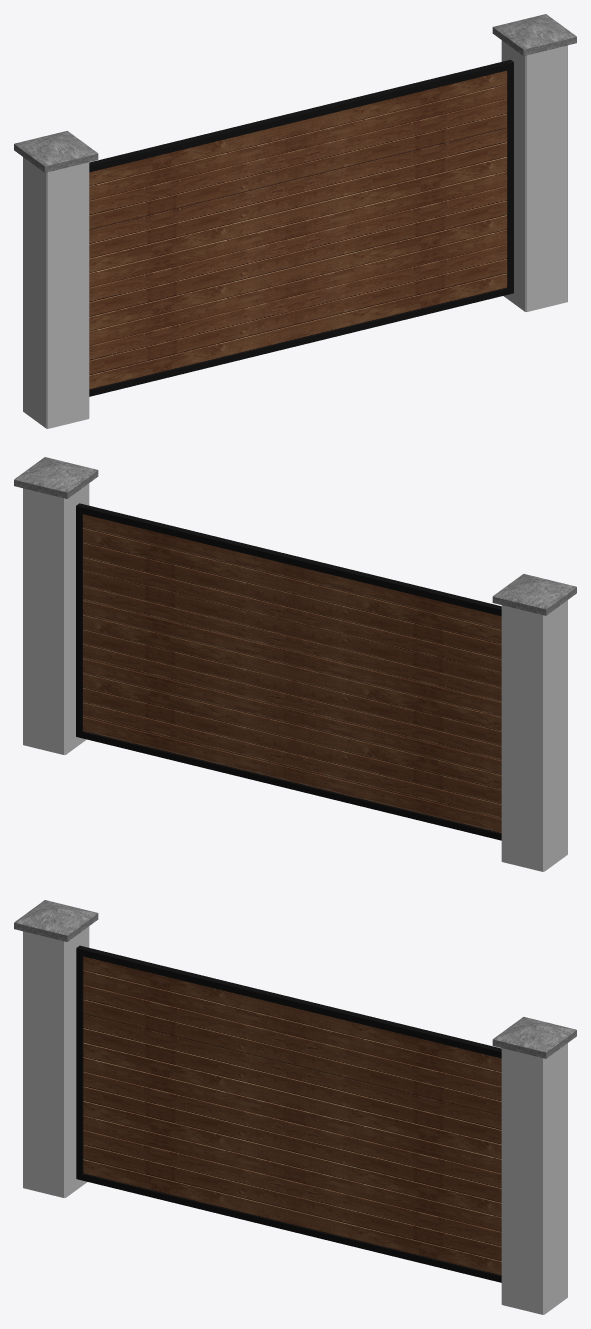
Rendered from Fence 4.FBX.
The picture shows the model from 3 angles, top to bottom: view 1: azimuth 30°, elevation 25°; view 2: azimuth 150°, elevation 25°; view 3: azimuth 330°, elevation 25°; orthographic projection.
Parts seen in each view (by area): view 1: fence 4, post1, post2; view 2: fence 4, post1, post2; view 3: fence 4, post2, post1.
Part boxes in pixels (left/top/right/bottom): fence 4: left=89, top=59, right=513, bottom=396; post1: left=14, top=131, right=98, bottom=428; post2: left=492, top=14, right=576, bottom=311; fence 4: left=76, top=503, right=501, bottom=840; post1: left=492, top=574, right=576, bottom=871; post2: left=14, top=457, right=98, bottom=754; fence 4: left=76, top=945, right=501, bottom=1282; post2: left=492, top=1017, right=576, bottom=1314; post1: left=14, top=900, right=98, bottom=1197.
Size of the model in its own units: 49.65 by 5 by 24.59.
